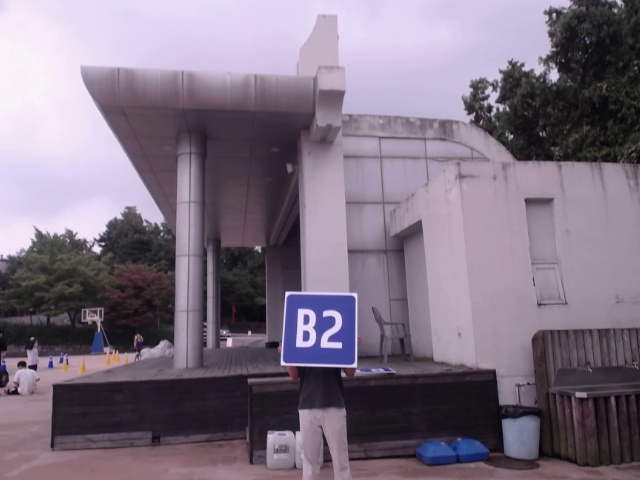delivery_b2: (283, 292, 357, 366)
